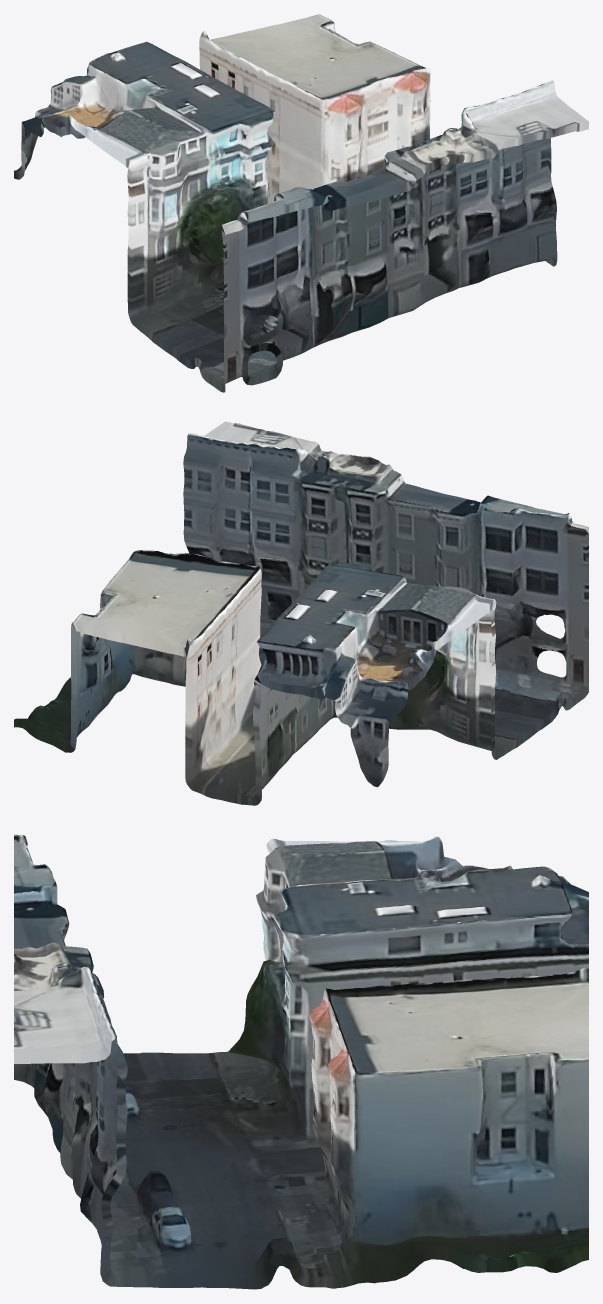
Rendered from z20-167748-405193-h0-yup-uvflip-v3-world.glb.
The picture shows the model from 3 angles, top to bottom: view 1: azimuth 30°, elevation 25°; view 2: azimuth 150°, elevation 25°; view 3: azimuth 270°, elevation 25°; orthographic projection. The views are drawn at different scales.
Size of the model in its own units: 30.16 by 15.96 by 30.32.
Materials: 1 (1 with a texture image).
